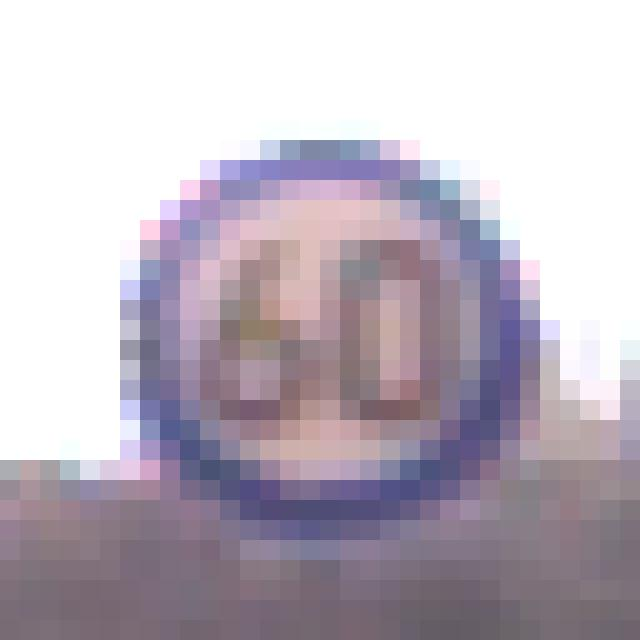SPEED-LIMIT-60: (116, 130, 553, 558)
